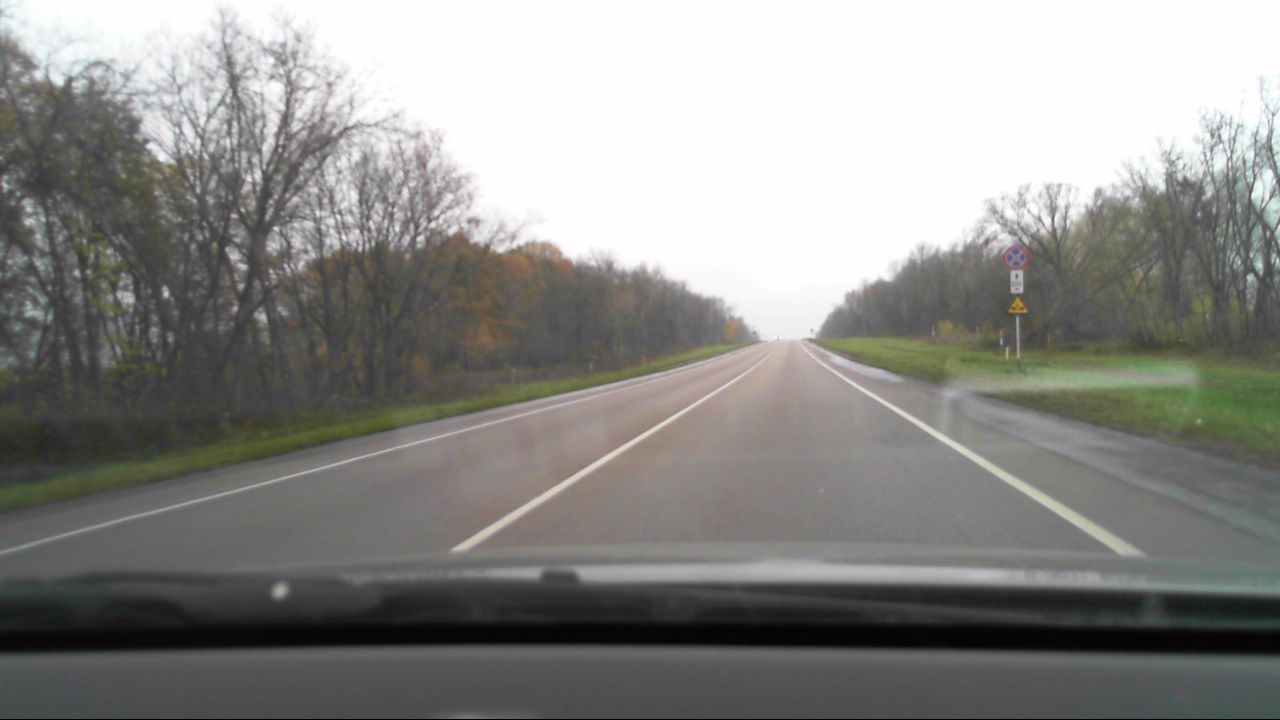No Parking: (1003, 244, 1027, 269)
